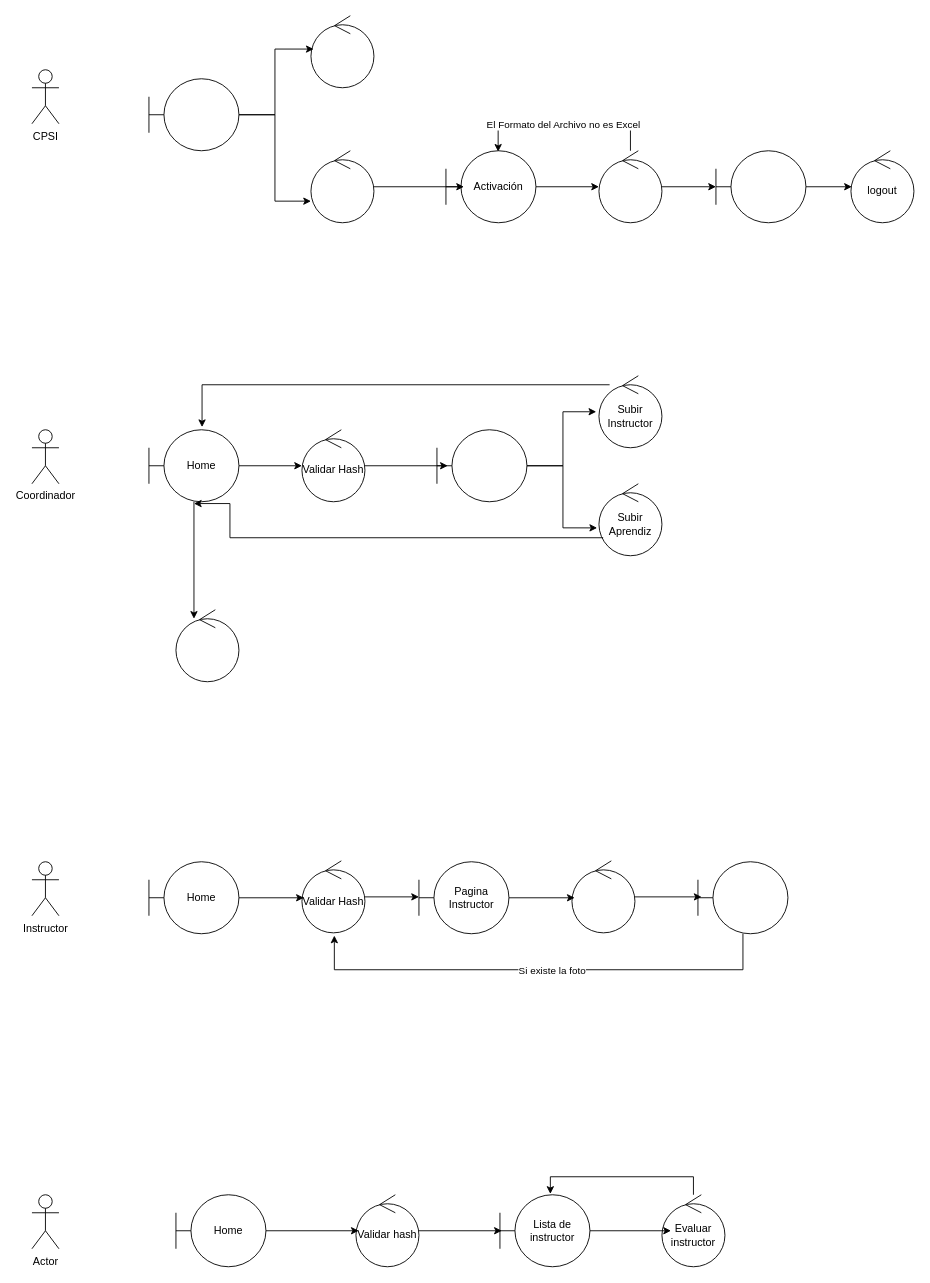
Image size: 930x1283. Some labels were removed from this diagram. The box of each missing label's shape, as (x1, y1, x2, y2) in pixels:
Administrador: (715, 150, 806, 223)
Crear Super: (310, 15, 374, 88)
Descargar Plantillas: (175, 609, 239, 682)
Login: (310, 150, 374, 223)
Pagina Coordinador: (436, 429, 527, 502)
Subir Excel: (598, 150, 662, 223)
Subir Foto: (571, 860, 635, 933)
Vista Información instructor: (697, 861, 788, 934)
